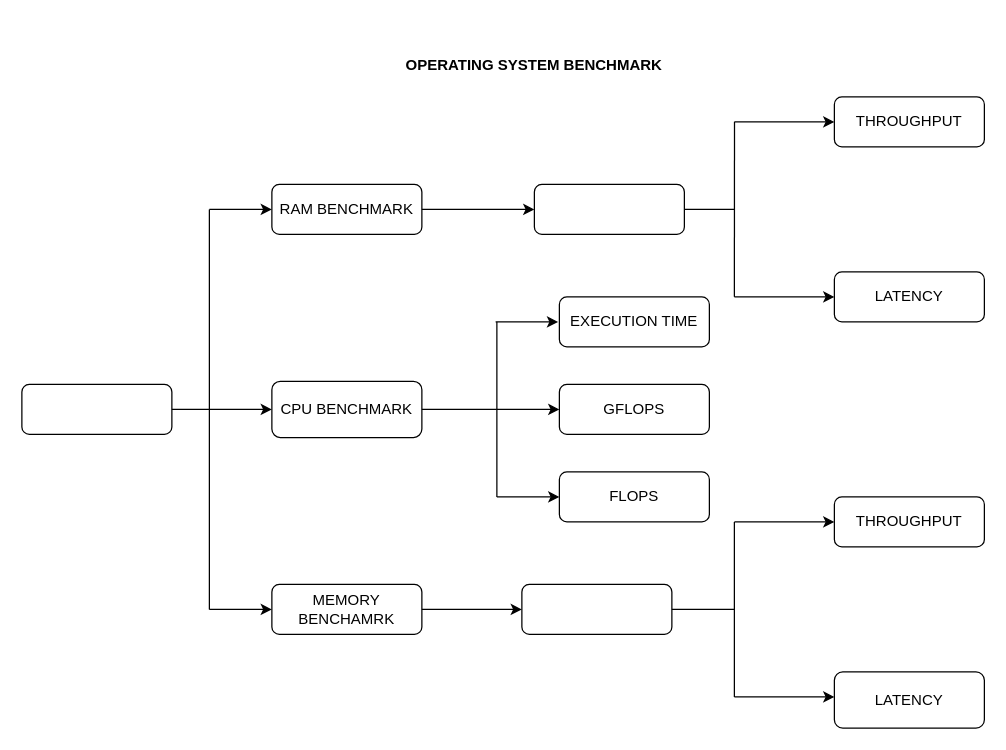
The diagram is 1006 pixels wide and 750 high, and some of its shapes have lost their labels. The box of each missing label's shape, as (x1, y1, x2, y2) in pixels:
FILE HANDLING: (533, 183, 684, 234)
MEMORY ALLOCATION: (521, 583, 672, 634)
OS BENCHMARK: (21, 383, 172, 434)
